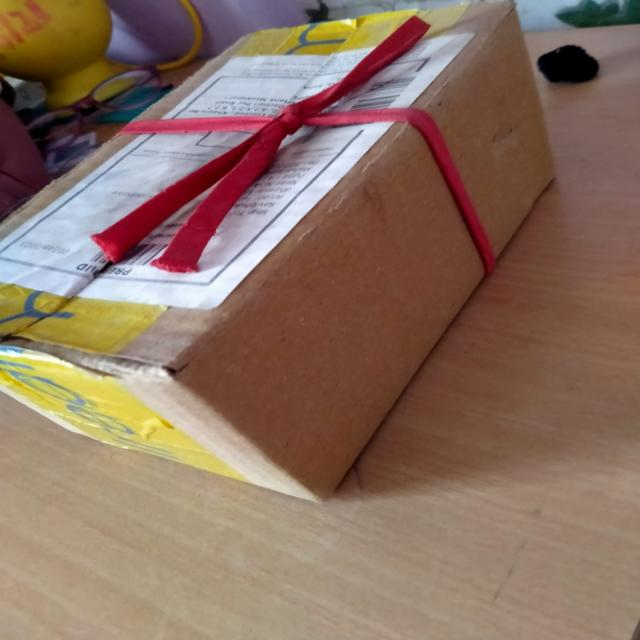Badminton: (0, 0, 555, 504)
